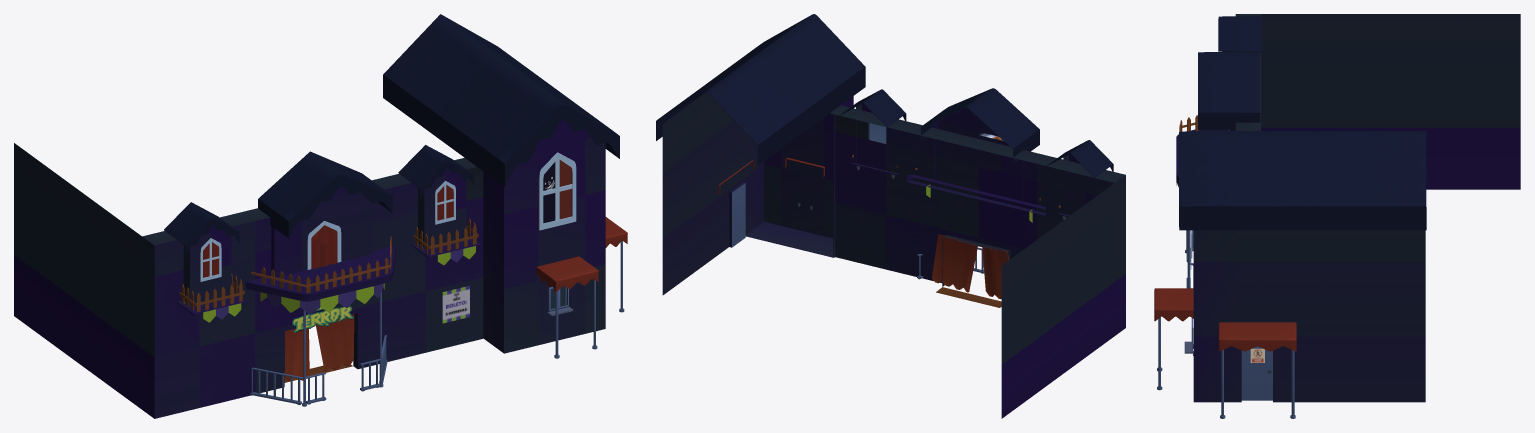
Rendered from MSH_CasaDeTerror.fbx.
3 views of the same model, side by side, from view 1: azimuth 30°, elevation 25°; view 2: azimuth 150°, elevation 25°; view 3: azimuth 270°, elevation 25° (orthographic). The views are drawn at different scales.
Parts seen in each view (by area): view 1: Box024, Object029, Box069, Object031, Object033, Object027, Plane014, Plane012; view 2: Box024, Object029, Box069; view 3: Box024, Object029, Object033, Box069.
Boxes of the visible parts, x1,y1,x2,y2 form: Box024: [14, 119, 605, 418]; Object029: [164, 14, 619, 255]; Box069: [250, 241, 624, 406]; Object031: [203, 246, 475, 322]; Object033: [536, 217, 627, 292]; Object027: [538, 155, 571, 226]; Plane014: [442, 285, 469, 323]; Plane012: [292, 306, 353, 332]; Box024: [662, 92, 1125, 418]; Object029: [656, 14, 1113, 177]; Box069: [732, 166, 1065, 279]; Box024: [1176, 14, 1520, 402]; Object029: [1179, 16, 1426, 230]; Object033: [1154, 288, 1296, 351]; Box069: [1157, 230, 1295, 418].
Bounding box in the file's own units: 652 × 326 × 438.
